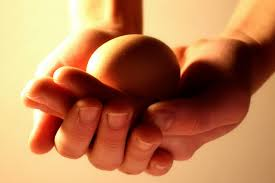egg: (86, 34, 181, 98)
